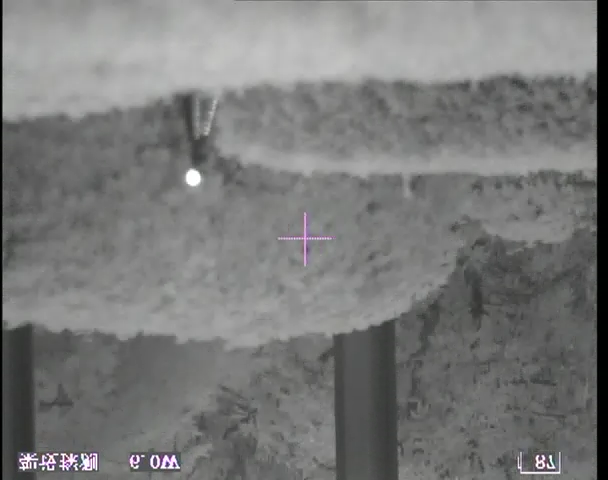my: (184, 166, 202, 188)
